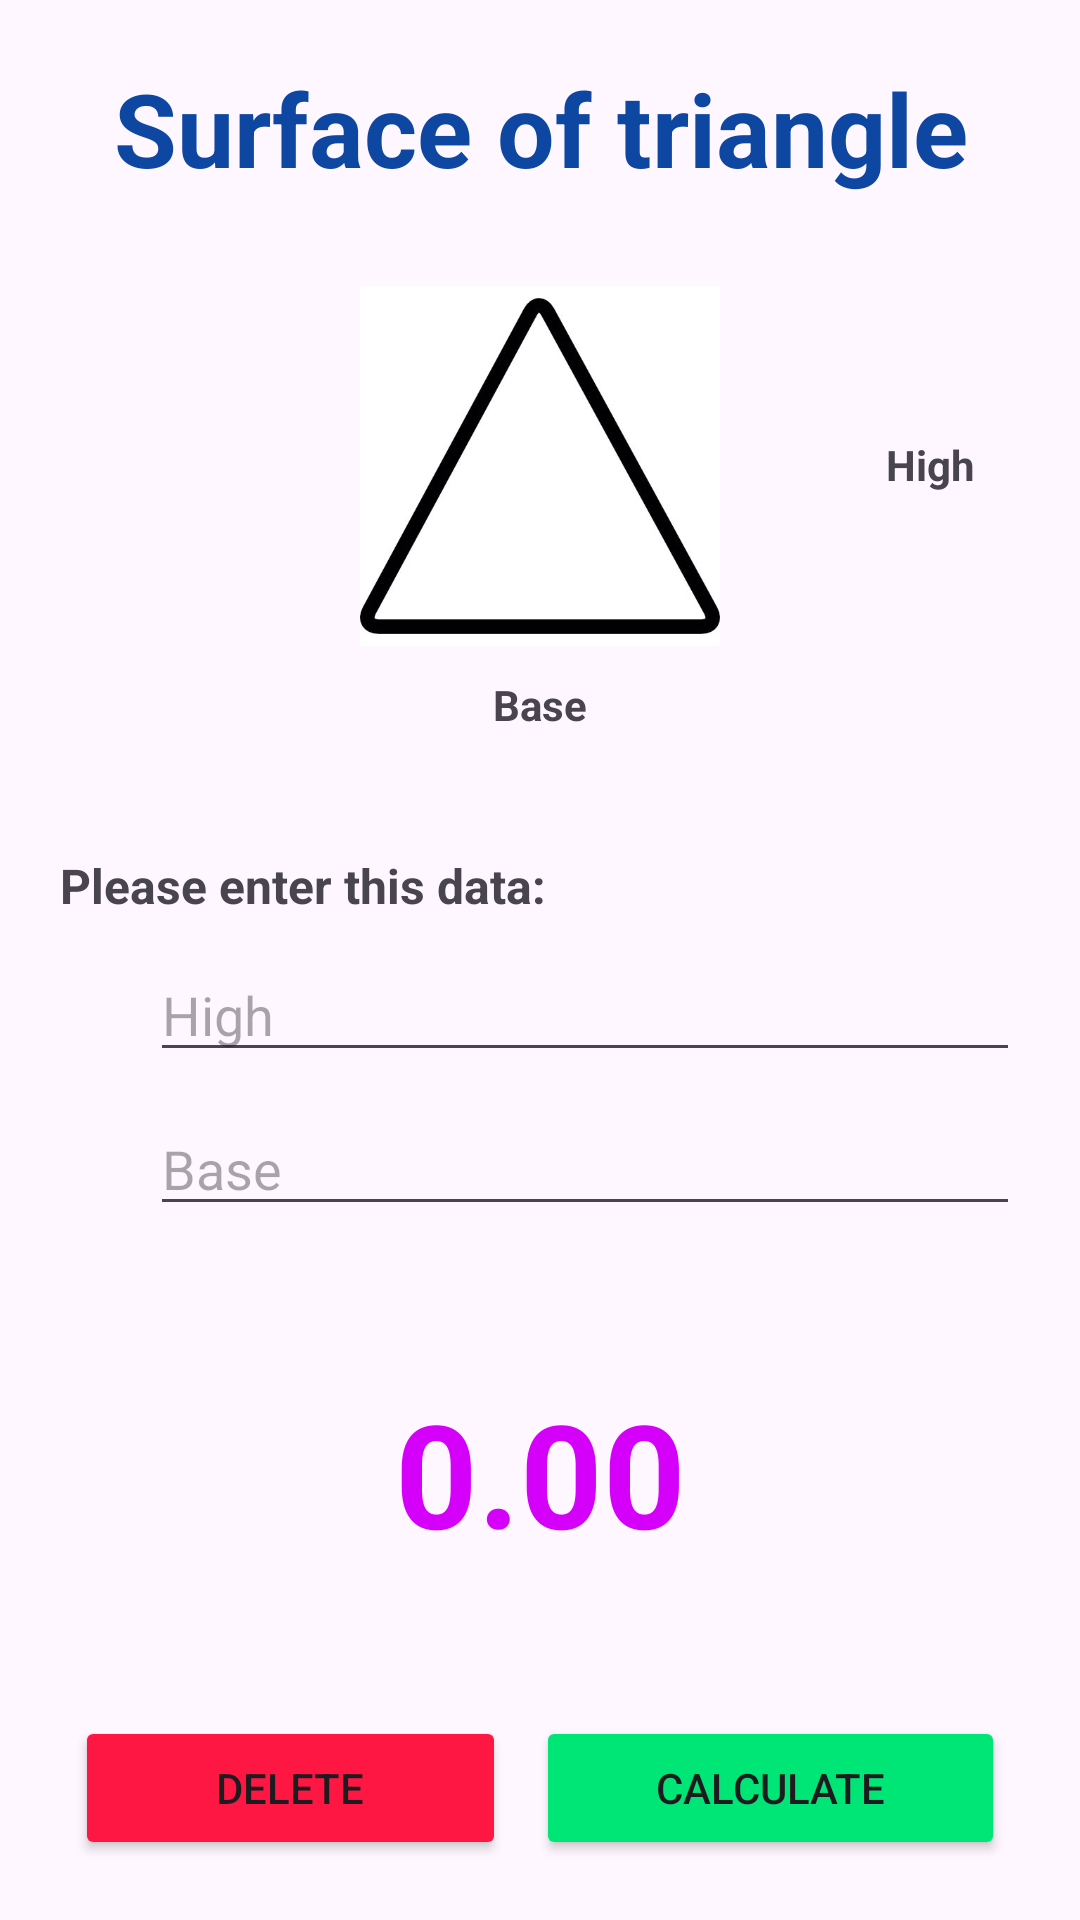

Named icons in this screenshot (1080 x 1920) and their bounding boxes, box=[x1, y1, x2, y2]:
triangulo: box=[360, 298, 720, 634]
